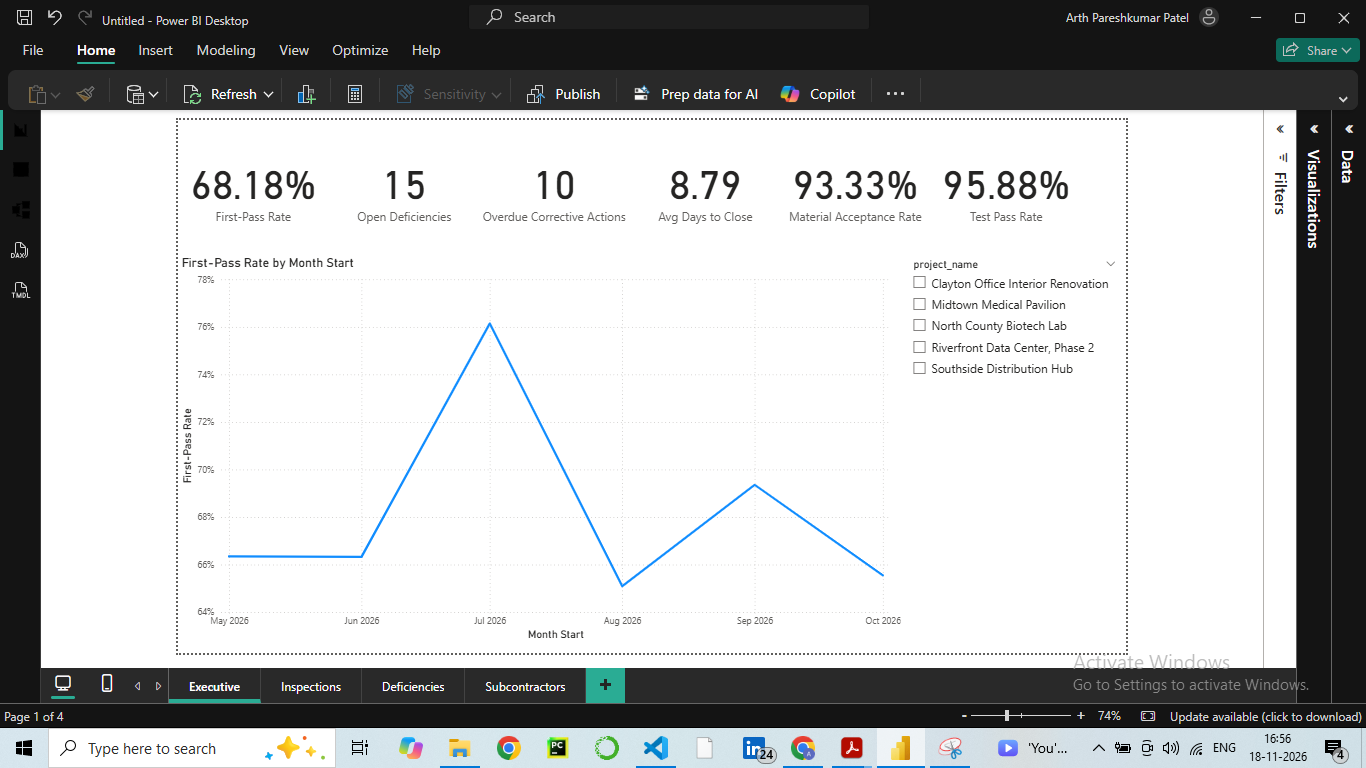

The page's visual inventory and layout, read from the dashboard file:
{"tool":"powerbi","page":{"name":"Executive","canvas":[1280,720],"ordinal":0},"visuals":[{"type":"card","fields":{"Values":["inspections.First-Pass Rate"]},"box":[0,0,203.4,182.6],"z":0},{"type":"card","fields":{"Values":["inspections.Open Deficiencies"]},"box":[203.4,0,203.4,182.6],"z":1000},{"type":"card","fields":{"Values":["inspections.Overdue Corrective Actions"]},"box":[406.9,0,203.4,182.6],"z":2000},{"type":"card","fields":{"Values":["inspections.Avg Days to Close"]},"box":[610.3,0,203.4,182.6],"z":3000},{"type":"card","fields":{"Values":["inspections.Material Acceptance Rate"]},"box":[813.7,0,203.4,182.6],"z":4000},{"type":"card","fields":{"Values":["inspections.Test Pass Rate"]},"box":[1017.2,0,203.4,182.6],"z":5000},{"type":"lineChart","fields":{"Category":["Calendar.Month Start"],"Y":["inspections.First-Pass Rate"]},"box":[0,182.6,981.5,525.7],"z":6000},{"type":"slicer","fields":{"Values":["projects.project_name"]},"box":[981.5,182.6,298.5,176.7],"z":7000}]}

Visuals, with their boxes on the page's 1280x720 design canvas (x1, y1, x2, y2). These are canvas units, not pixel positions in the 1366x768 screenshot, which may show the page scaled, cropped or inside an application window:
card - inspections.First-Pass Rate: detection(0, 0, 203, 183)
card - inspections.Open Deficiencies: detection(203, 0, 407, 183)
card - inspections.Overdue Corrective Actions: detection(407, 0, 610, 183)
card - inspections.Avg Days to Close: detection(610, 0, 814, 183)
card - inspections.Material Acceptance Rate: detection(814, 0, 1017, 183)
card - inspections.Test Pass Rate: detection(1017, 0, 1221, 183)
lineChart - Calendar.Month Start x inspections.First-Pass Rate: detection(0, 183, 982, 708)
slicer - projects.project_name: detection(982, 183, 1280, 359)
